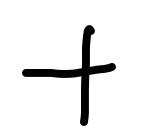plus: (22, 25, 117, 127)
